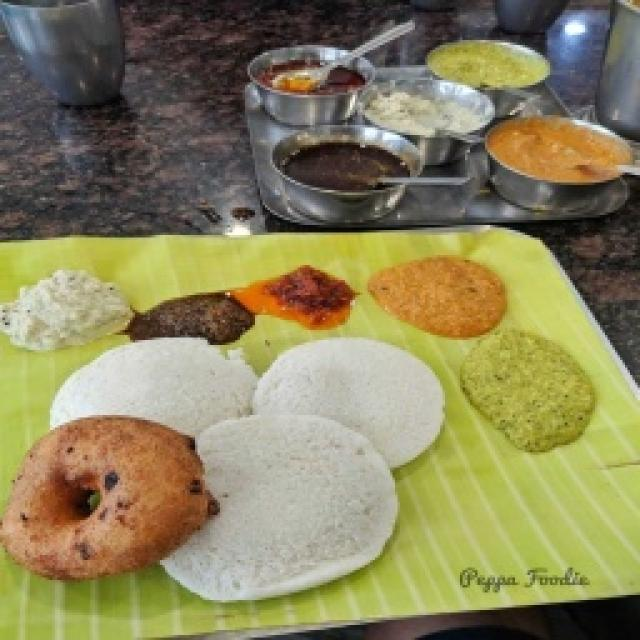idli: (163, 415, 397, 602), (253, 338, 444, 467), (50, 338, 257, 434)
